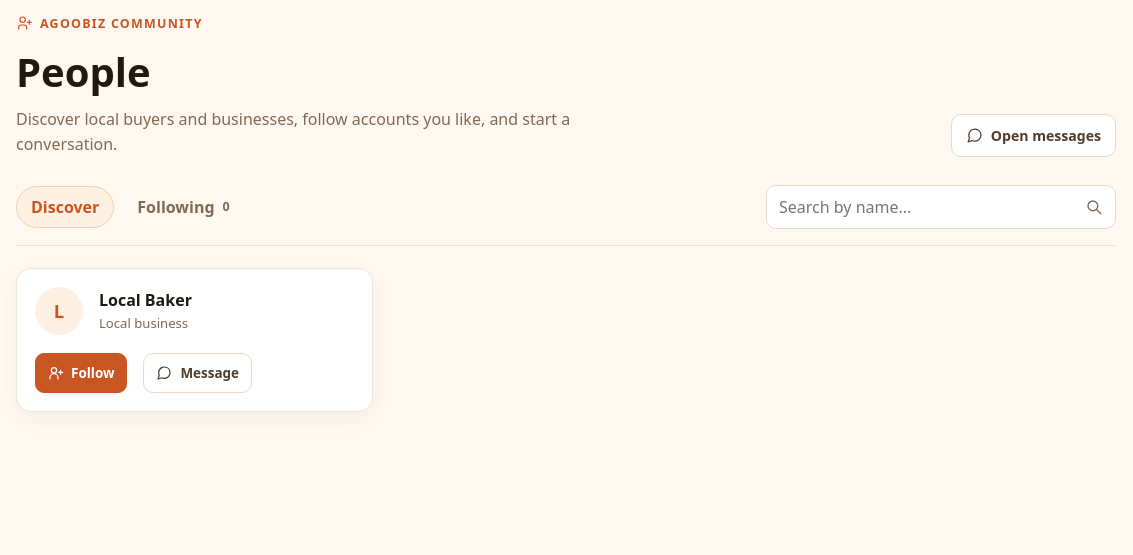
keeps discovered accounts visible if the following list fails
Expected: the heading "Local Baker" is shown, [99, 289, 192, 311]
Click the tab "Following 0" at (184, 207), box [122, 186, 245, 228]
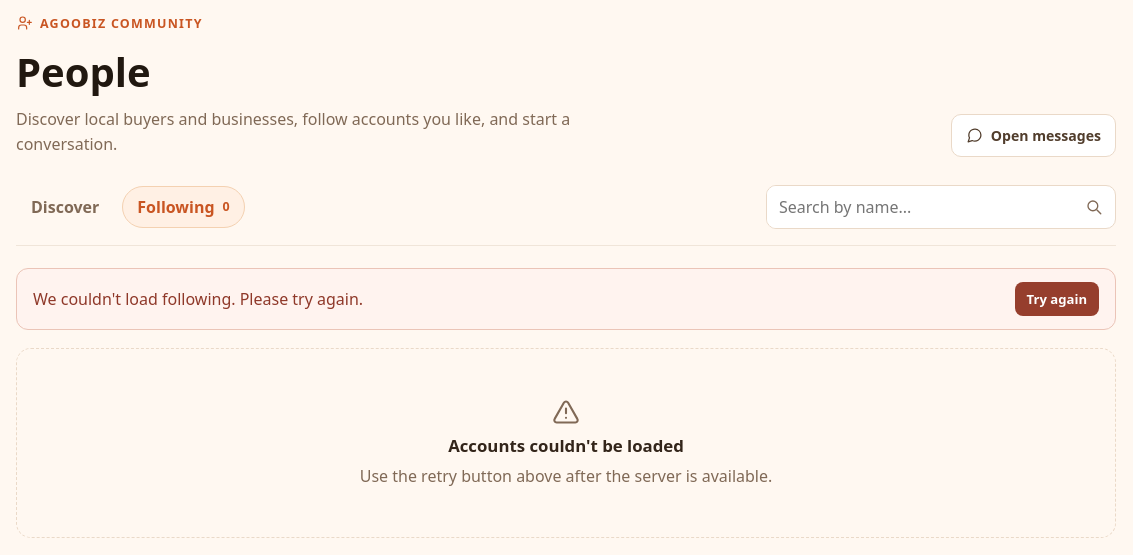
Now the text "We couldn't load following. Please try again." is shown, box [33, 287, 363, 311]
